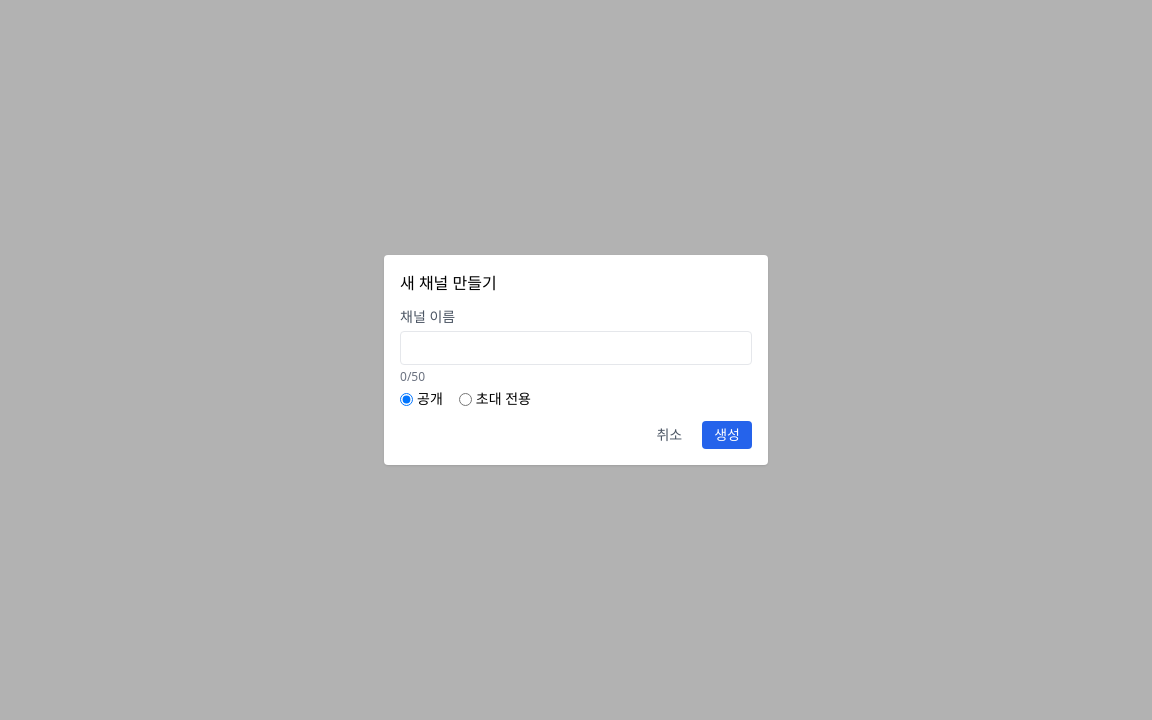
CreateChannelModal (example-based) › shows a validation error and does not close when the name is blank
The image size is (1152, 720).
What coordinates should you click on to do the following:
click the button with test id "create-channel-modal-submit-button"
I would click on:
 (727, 435)
Its box is [702, 421, 752, 449].
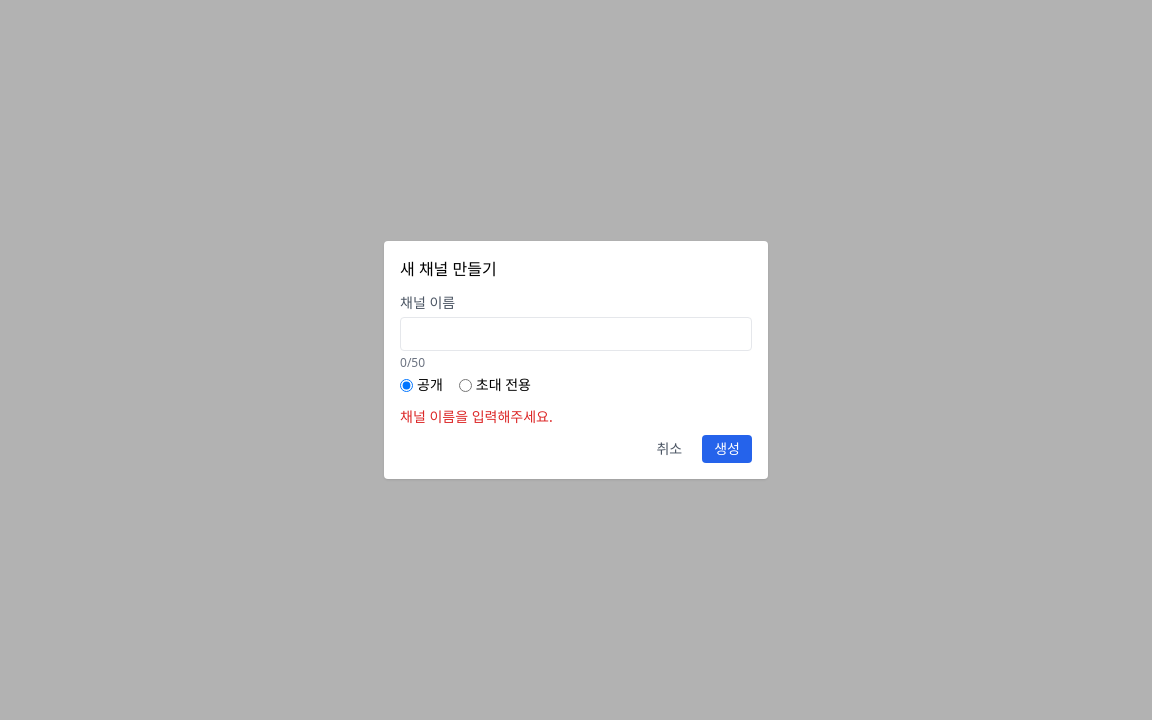
Check: the text with test id "create-channel-modal-error" shows "채널 이름을 입력", box [400, 407, 553, 426]
